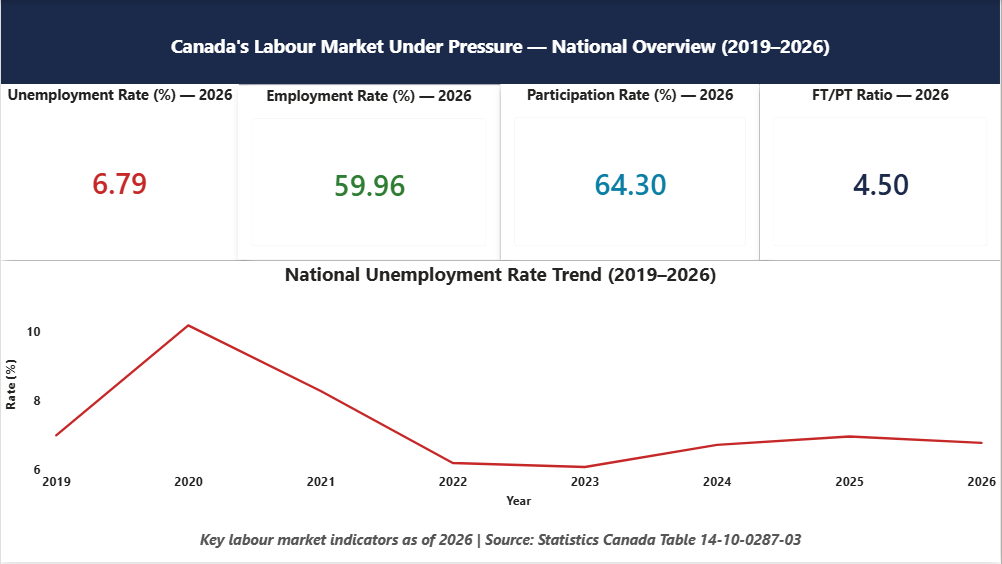

The page's visual inventory and layout, read from the dashboard file:
{"tool":"powerbi","page":{"name":"National Overview ","canvas":[1280,720],"ordinal":0},"visuals":[{"type":"textbox","box":[0,0,1279.4,107.7],"z":0},{"type":"cardVisual","title":"Unemployment Rate (%) — 2026","fields":{"Data":["labour_force_clean.Avg Unemployment Rate"]},"box":[0,107.9,304.4,225.4],"z":1000},{"type":"cardVisual","title":"Employment Rate (%) — 2026","fields":{"Data":["labour_force_clean.Avg Employment Rate"]},"box":[304.4,109.8,335.3,223.5],"z":2000},{"type":"cardVisual","title":"Participation Rate (%) — 2026","fields":{"Data":["labour_force_clean.Avg Participation Rate"]},"box":[639.7,107.9,331.4,225.4],"z":3000},{"type":"cardVisual","title":"FT/PT Ratio — 2026","fields":{"Data":["labour_force_clean.Avg Fulltime Ratio"]},"box":[971.1,107.9,308.3,225.4],"z":4000},{"type":"lineChart","title":"National Unemployment Rate Trend (2019–2026)","fields":{"Category":["labour_force_clean.REF_DATE.Variation.Date Hierarchy.Year"],"Y":["labour_force_clean.Unemployment Trend"]},"box":[0,333.3,1279.4,321.8],"z":5000},{"type":"textbox","box":[0,655.1,1279.4,65.5],"z":6000}]}

Visuals, with their boxes in screenshot pixels (x1, y1, x2, y2), scaled from the page's 1280x720 canvas onto the 1002x564 screenshot:
textbox: 0, 0, 1001, 84
"Unemployment Rate (%) — 2026" cardVisual: 0, 85, 238, 261
"Employment Rate (%) — 2026" cardVisual: 238, 86, 501, 261
"Participation Rate (%) — 2026" cardVisual: 501, 85, 760, 261
"FT/PT Ratio — 2026" cardVisual: 760, 85, 1001, 261
"National Unemployment Rate Trend (2019–2026)" lineChart: 0, 261, 1001, 513
textbox: 0, 513, 1001, 563
